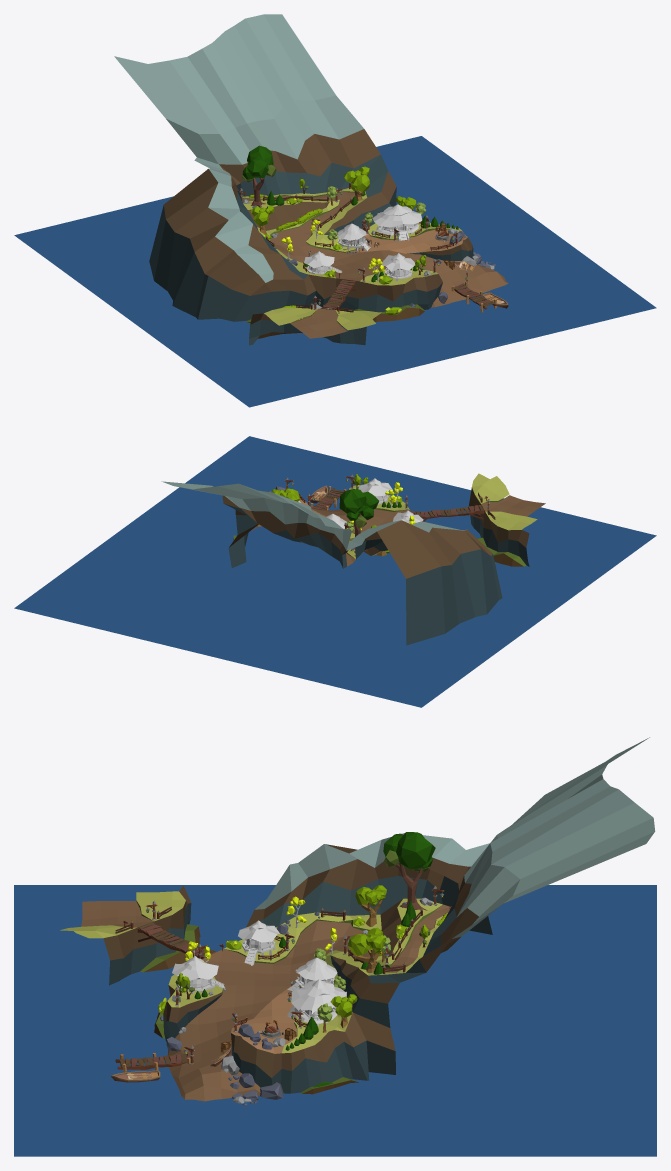
File: wioska5_unity.fbx
The picture shows the model from 3 angles, top to bottom: view 1: azimuth 30°, elevation 25°; view 2: azimuth 150°, elevation 25°; view 3: azimuth 270°, elevation 25°; orthographic projection. The views are drawn at different scales.
Visible parts, largest first — view 1: mapa, woda, beczka_Cylinder.001, Domek_3, DOMEK_2, DOMEK_STOK.001; view 2: woda, mapa, beczka_Cylinder.001, most, DOMEK_2; view 3: woda, mapa, beczka_Cylinder.001, Domek_3, DOMEK_2.001, DOMEK_2, most_2, most, DOMEK_STOK.001.
Part boxes in pixels (left/top/right/bottom): mapa: left=114, top=14, right=508, bottom=345; woda: left=14, top=136, right=656, bottom=407; beczka_Cylinder.001: left=239, top=145, right=508, bottom=315; Domek_3: left=372, top=204, right=422, bottom=241; DOMEK_2: left=382, top=253, right=415, bottom=281; DOMEK_STOK.001: left=337, top=223, right=370, bottom=250; woda: left=14, top=436, right=656, bottom=707; mapa: left=161, top=473, right=545, bottom=645; beczka_Cylinder.001: left=251, top=474, right=495, bottom=556; most: left=411, top=505, right=484, bottom=521; DOMEK_2: left=358, top=478, right=392, bottom=506; woda: left=14, top=885, right=656, bottom=1156; mapa: left=60, top=737, right=655, bottom=1101; beczka_Cylinder.001: left=110, top=832, right=451, bottom=1105; Domek_3: left=287, top=979, right=346, bottom=1025; DOMEK_2.001: left=238, top=920, right=279, bottom=965; DOMEK_2: left=172, top=956, right=224, bottom=993; most_2: left=115, top=1048, right=193, bottom=1072; most: left=137, top=922, right=216, bottom=959; DOMEK_STOK.001: left=287, top=957, right=337, bottom=990.
Bounding box in the file's own units: 13945 × 5624 × 13945.
